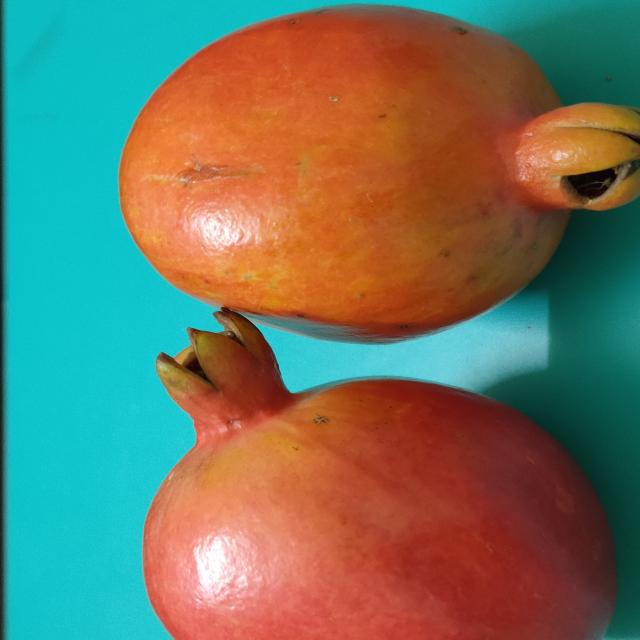Good_Pomegranate-50-60-days: (117, 7, 640, 640)
